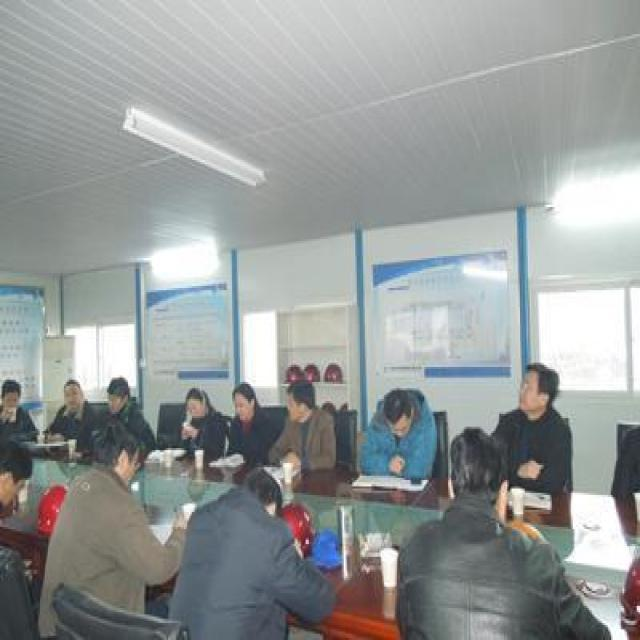no hat: (445, 418, 512, 525), (80, 414, 142, 502), (238, 465, 288, 531), (515, 356, 562, 416), (1, 437, 34, 510), (379, 384, 421, 437), (282, 380, 321, 429), (227, 376, 259, 422), (181, 382, 211, 429), (56, 373, 86, 414), (102, 377, 132, 414), (2, 376, 24, 418)
